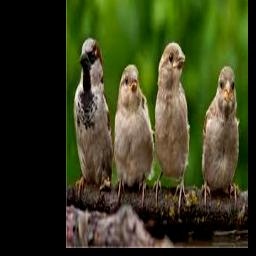Sparrow: (73, 36, 113, 199), (153, 42, 189, 212), (201, 66, 240, 211), (114, 63, 154, 198)
